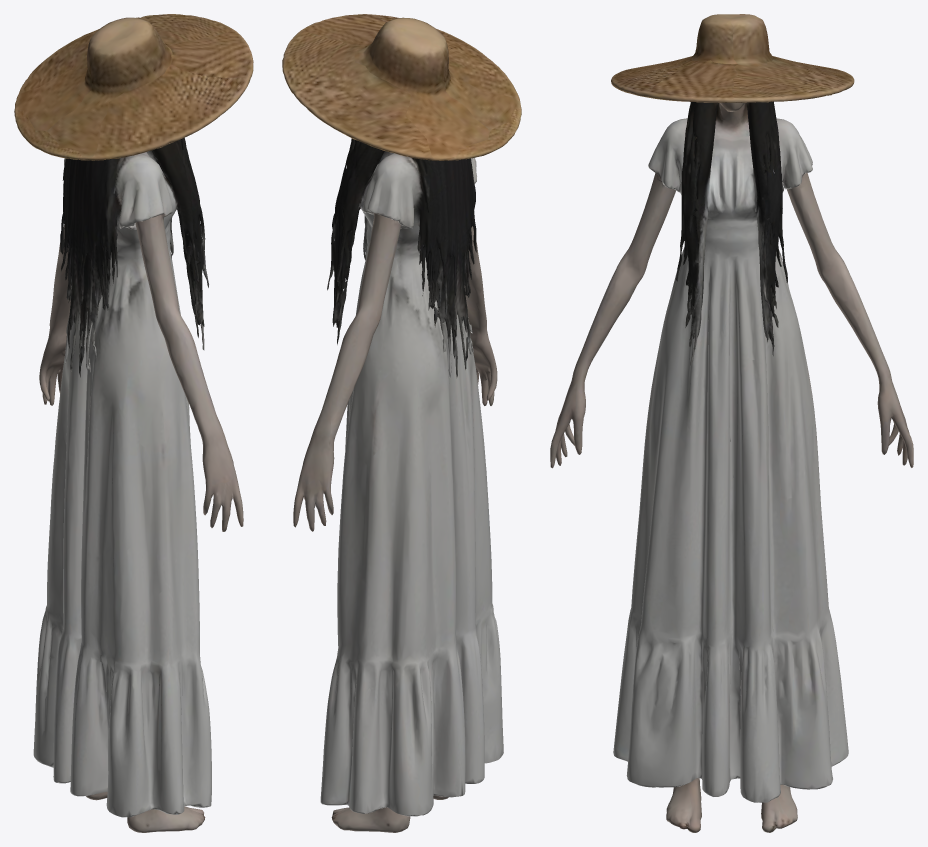
File: popopo.glb
3 renders of one model, left to right at view 1: azimuth 30°, elevation 25°; view 2: azimuth 150°, elevation 25°; view 3: azimuth 270°, elevation 25°, orthographic.
Parts seen in each view (by area): view 1: tripo_node_2c83d430-8841-47b9-8bdb-b8e3d68f4be7; view 2: tripo_node_2c83d430-8841-47b9-8bdb-b8e3d68f4be7; view 3: tripo_node_2c83d430-8841-47b9-8bdb-b8e3d68f4be7.
Part boxes in pixels (x1,y1,x2,y2): tripo_node_2c83d430-8841-47b9-8bdb-b8e3d68f4be7: (14,14,253,832); tripo_node_2c83d430-8841-47b9-8bdb-b8e3d68f4be7: (282,14,521,832); tripo_node_2c83d430-8841-47b9-8bdb-b8e3d68f4be7: (550,14,913,832).
Size of the model in its own units: 0.2702 by 1 by 0.4154.
1 material, 1 textured.
